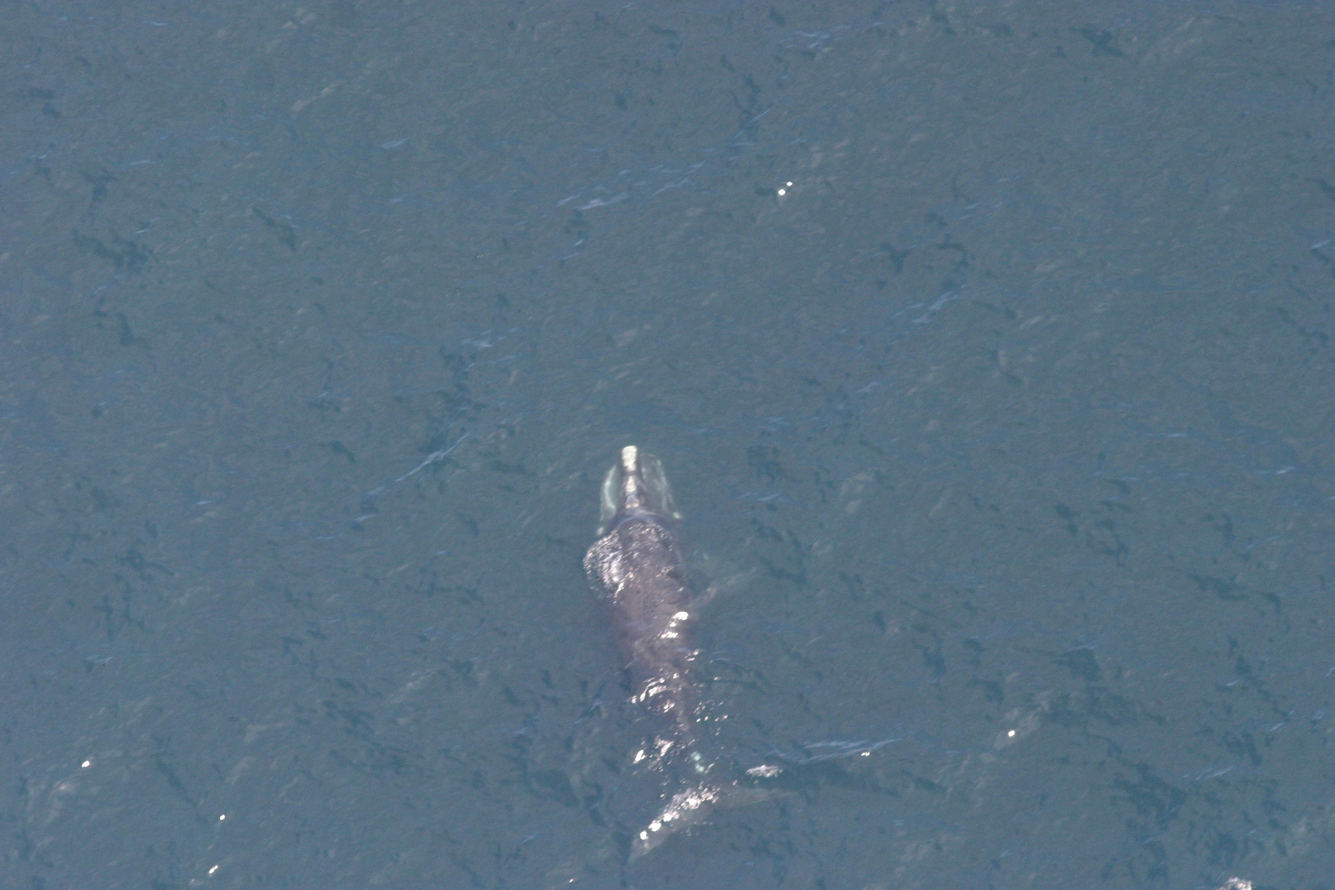whale: (570, 439, 799, 870)
